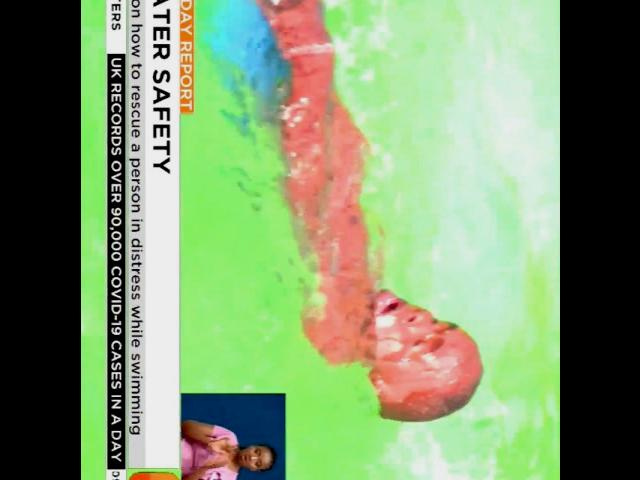swimming: (243, 0, 503, 440)
